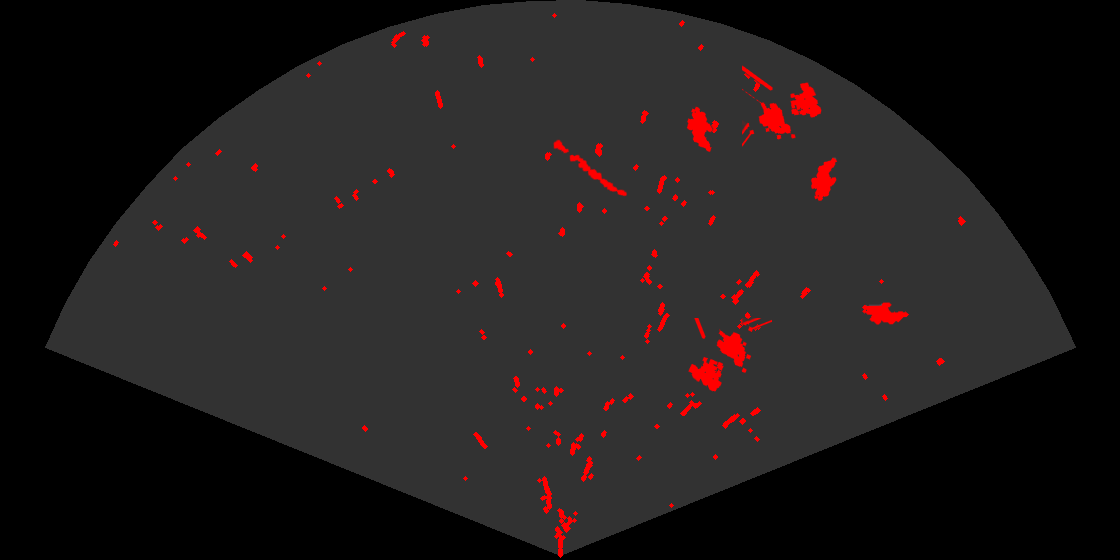AUV: (685, 105, 714, 154), (809, 156, 839, 203), (860, 301, 911, 326)
cage: (742, 64, 823, 148), (687, 318, 772, 393)
chain: (552, 138, 629, 198)
